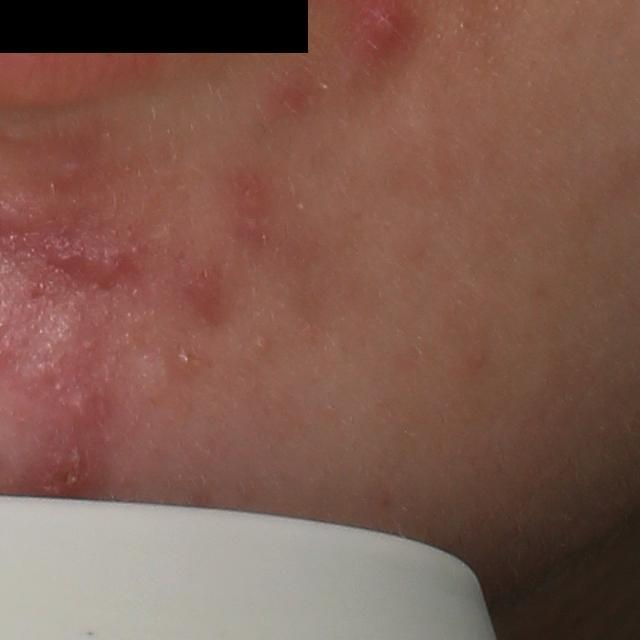papule: (32, 431, 102, 499), (59, 387, 109, 439), (91, 244, 128, 288), (189, 270, 218, 320)
